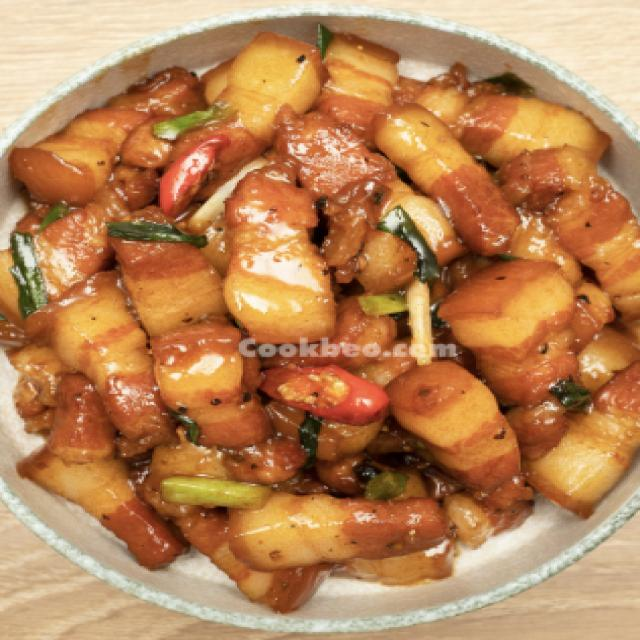kho tieu: (0, 31, 638, 609)
